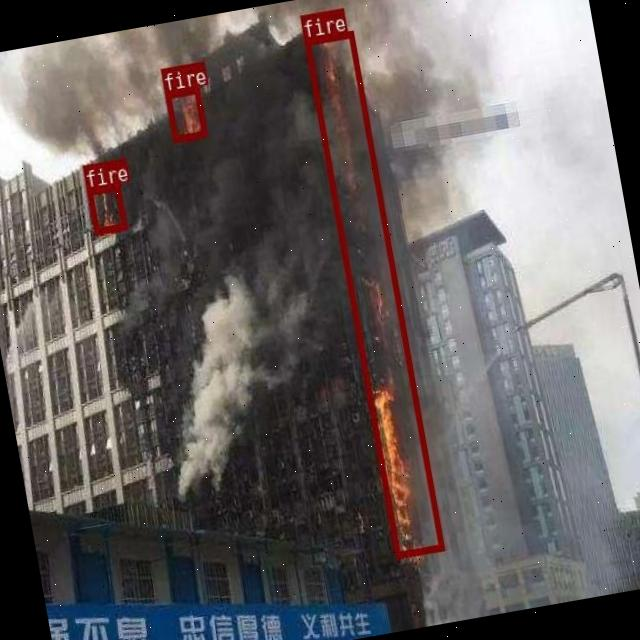fire: (302, 30, 442, 558), (164, 86, 206, 142), (85, 181, 126, 233)
